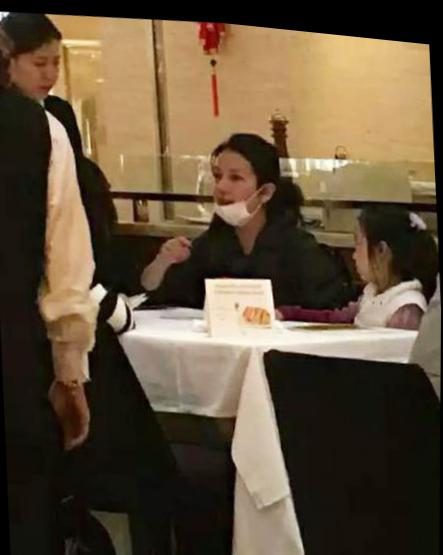NONE: (18, 48, 64, 101)
WRONG: (211, 161, 271, 226)
